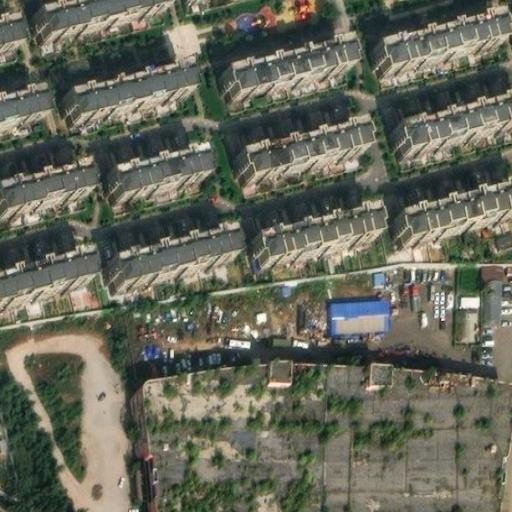building: (132, 364, 507, 512), (370, 10, 501, 69), (233, 119, 364, 178), (220, 36, 350, 93), (250, 203, 378, 260), (388, 99, 512, 156), (62, 61, 189, 116), (106, 224, 232, 278), (393, 182, 512, 238), (105, 149, 203, 196), (31, 0, 165, 34), (0, 160, 88, 210), (0, 251, 88, 301), (332, 291, 391, 324), (0, 87, 41, 122), (478, 257, 501, 318), (455, 302, 479, 336), (0, 15, 17, 44)
